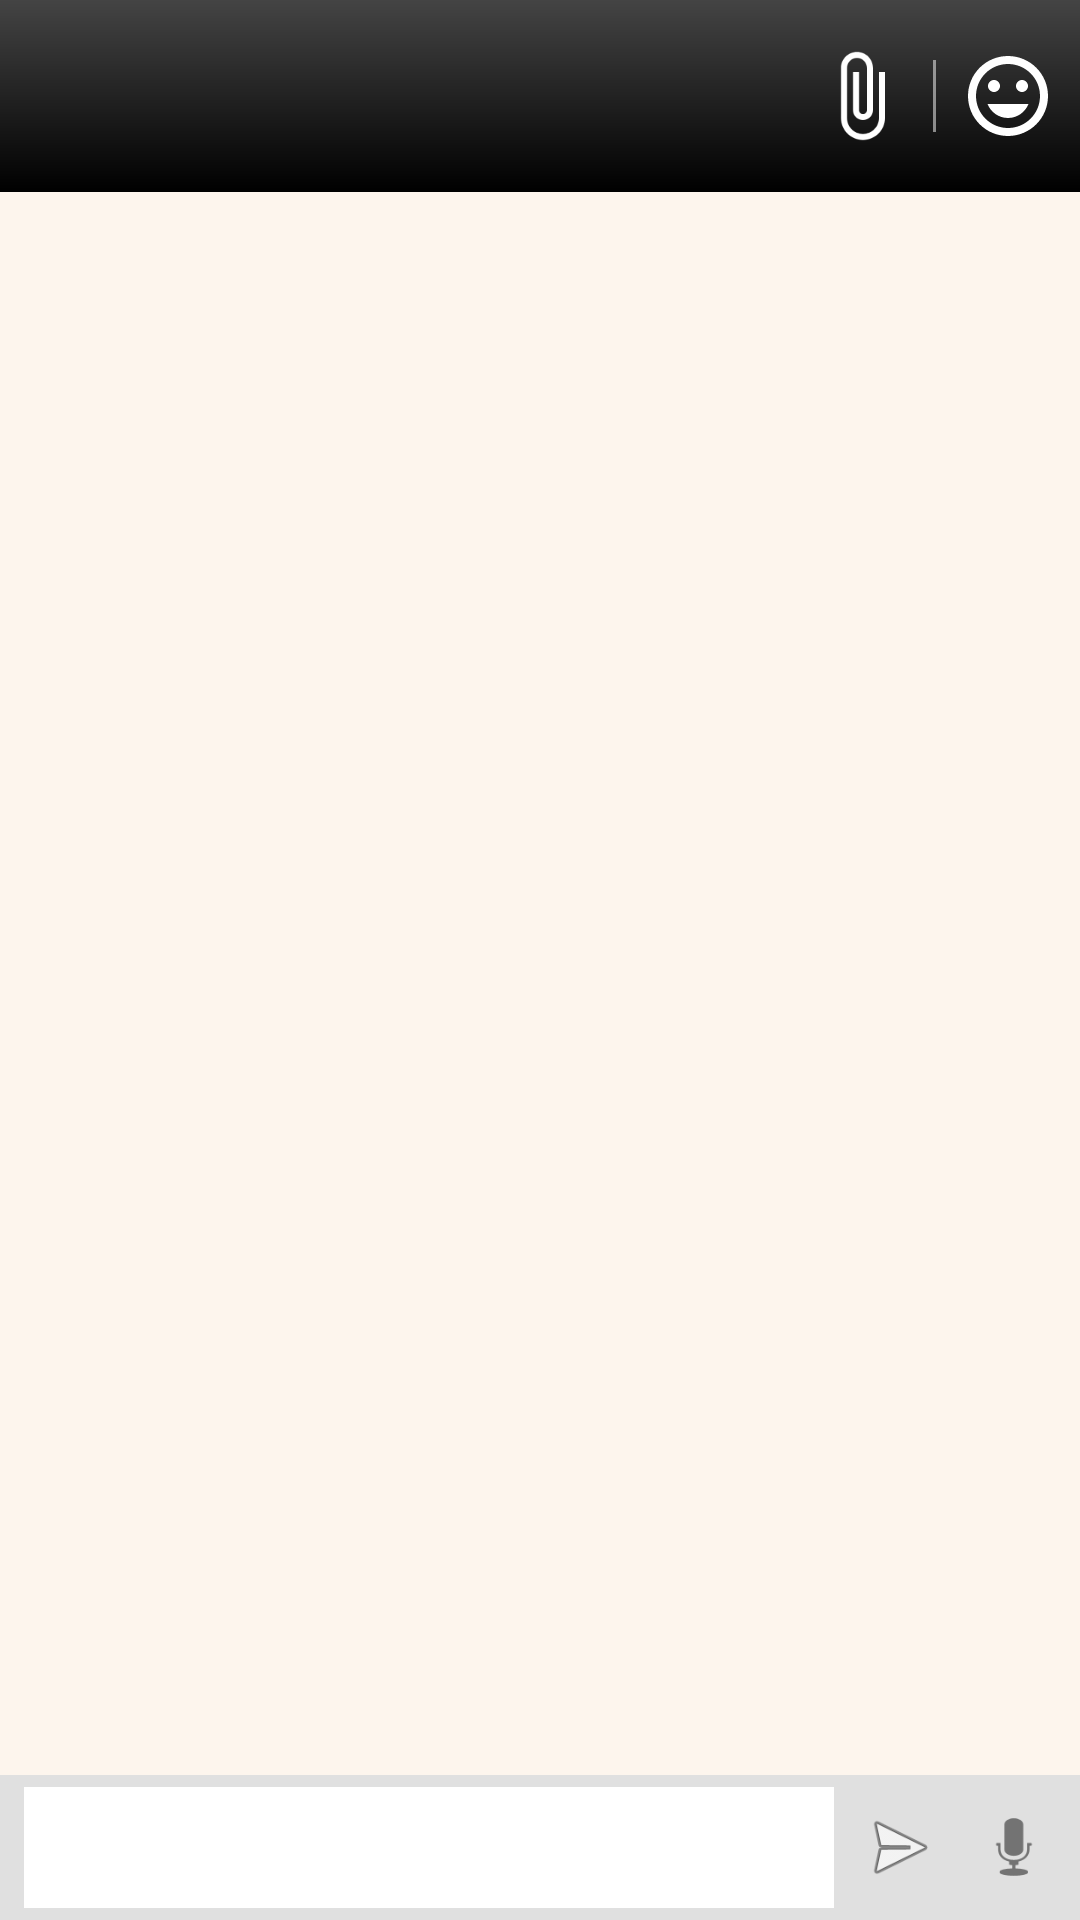

Named icons in this screenshot (1080*1920) and their centers, [x,y]:
paperclip: [861,96]
Record audio: [1014,1847]
Send: [901,1847]
smiley: [1008,96]
